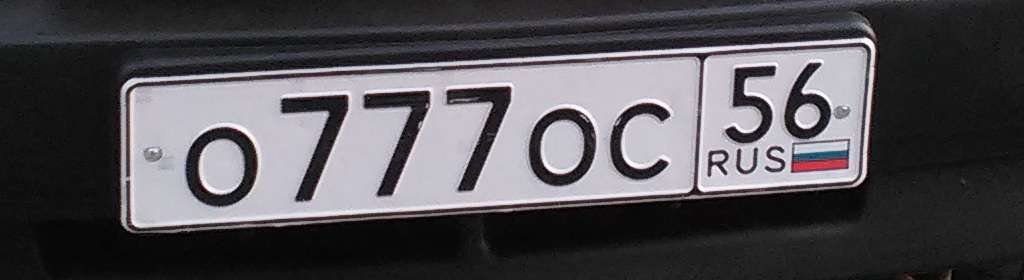number_plate: (118, 48, 870, 216)
